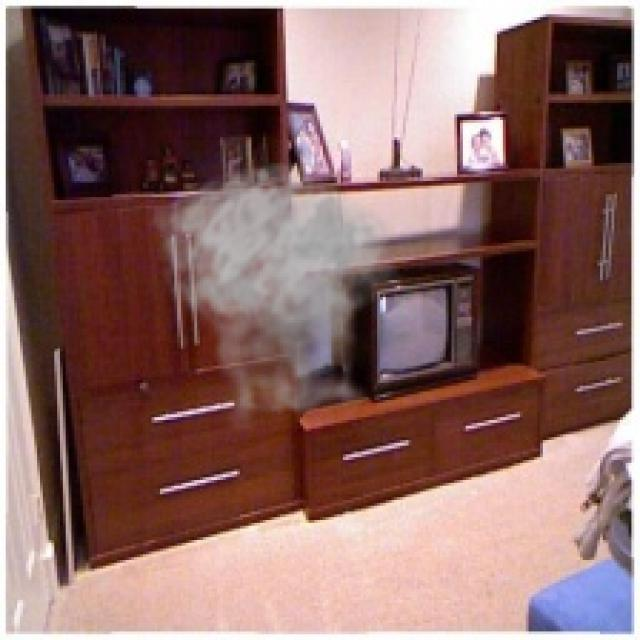Smoke: (148, 160, 412, 434)
